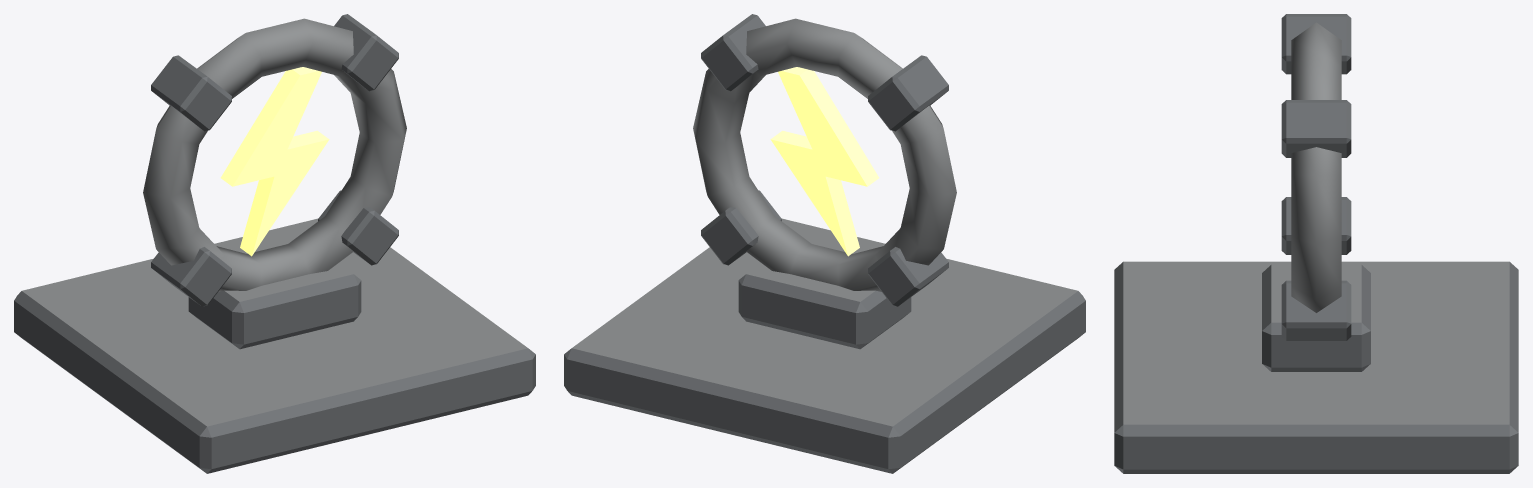
Rendered from R4X_RechargePulse_LOD1.fbx.
3 renders of one model, left to right at view 1: azimuth 30°, elevation 25°; view 2: azimuth 150°, elevation 25°; view 3: azimuth 270°, elevation 25°, orthographic. The views are drawn at different scales.
Parts seen in each view (by area): view 1: R4X_RechargePulse_LOD1; view 2: R4X_RechargePulse_LOD1; view 3: R4X_RechargePulse_LOD1.
Boxes of the visible parts, <box> form: R4X_RechargePulse_LOD1: <box>14,14,535,473</box>; R4X_RechargePulse_LOD1: <box>564,14,1085,473</box>; R4X_RechargePulse_LOD1: <box>1114,14,1518,473</box>.
Size of the model in its own units: 0.52 by 0.5039 by 0.52.
